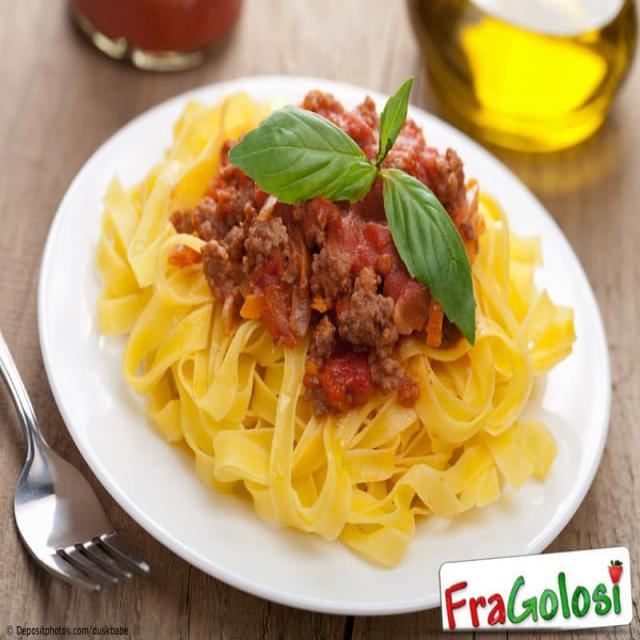Pasta al ragu: (95, 84, 585, 512)
